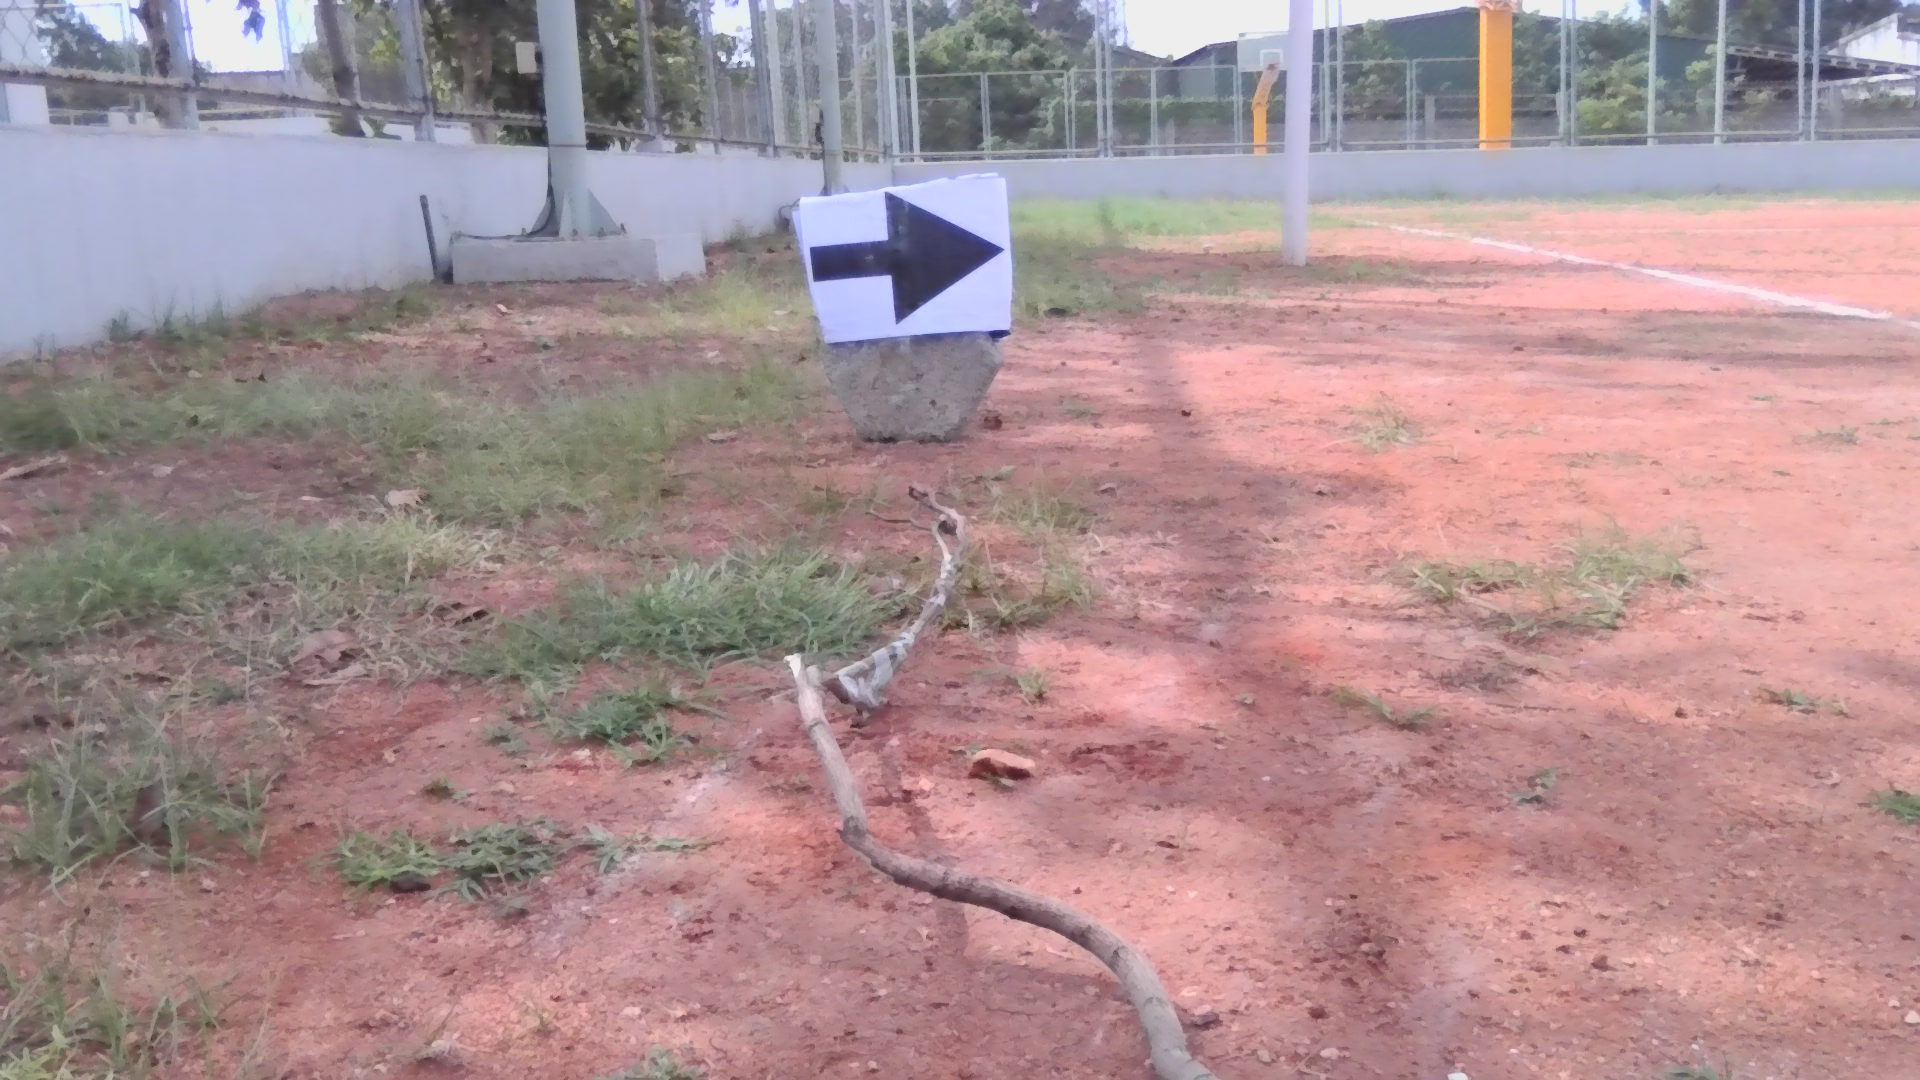leftDir: (800, 171, 1001, 345)
